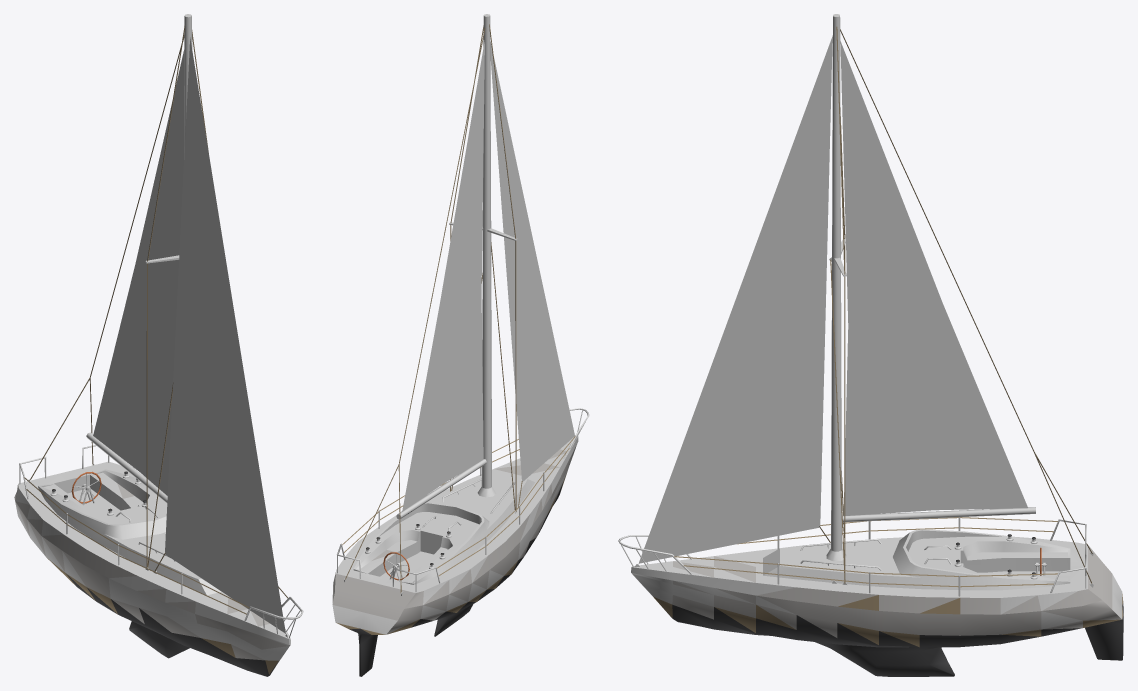
Rendered from sailboat.glb.
3 renders of one model, left to right at view 1: azimuth 30°, elevation 25°; view 2: azimuth 150°, elevation 25°; view 3: azimuth 270°, elevation 25°, orthographic. The views are drawn at different scales.
Parts seen in each view (by area): view 1: body; view 2: body; view 3: body.
Part boxes in pixels (x1=…): body: x1=14, y1=14, x2=303, y2=676; body: x1=332, y1=14, x2=589, y2=676; body: x1=618, y1=14, x2=1123, y2=676.
Size of the model in its own units: 2.99 by 14.44 by 10.
